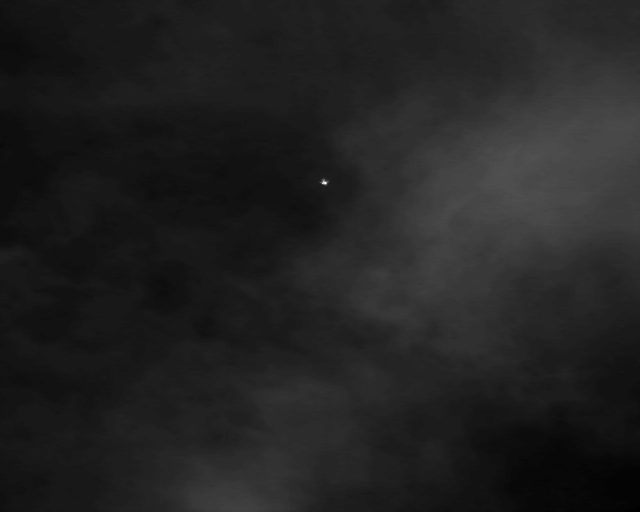Target: (321, 179, 328, 186)
